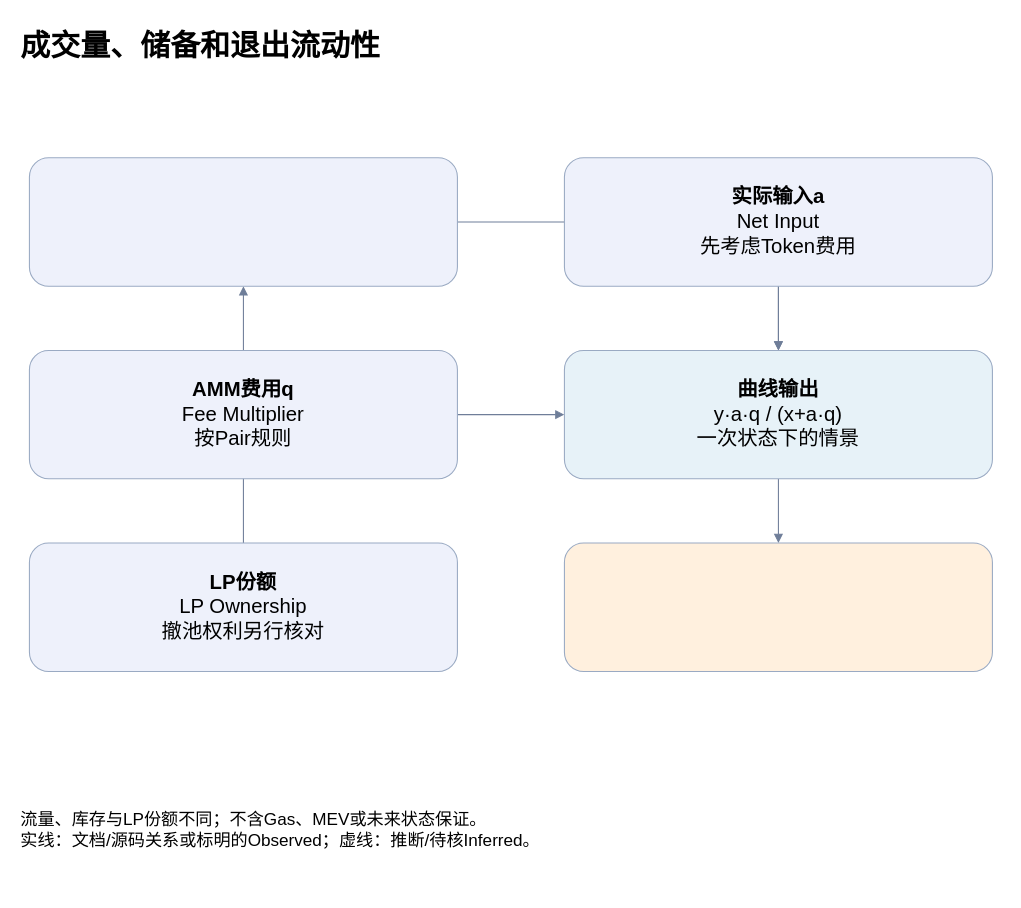
The diagram is 1021 pixels wide and 908 high, and some of its shapes have lost their labels. The centre of each missing label's shape, as x and y in pixels:
"储备x / y Pool Reserves 某时点资产库存" belongs at (242,221).
"退出解释 Realizable Scenario 价格×余额不是承诺" belongs at (777,606).
